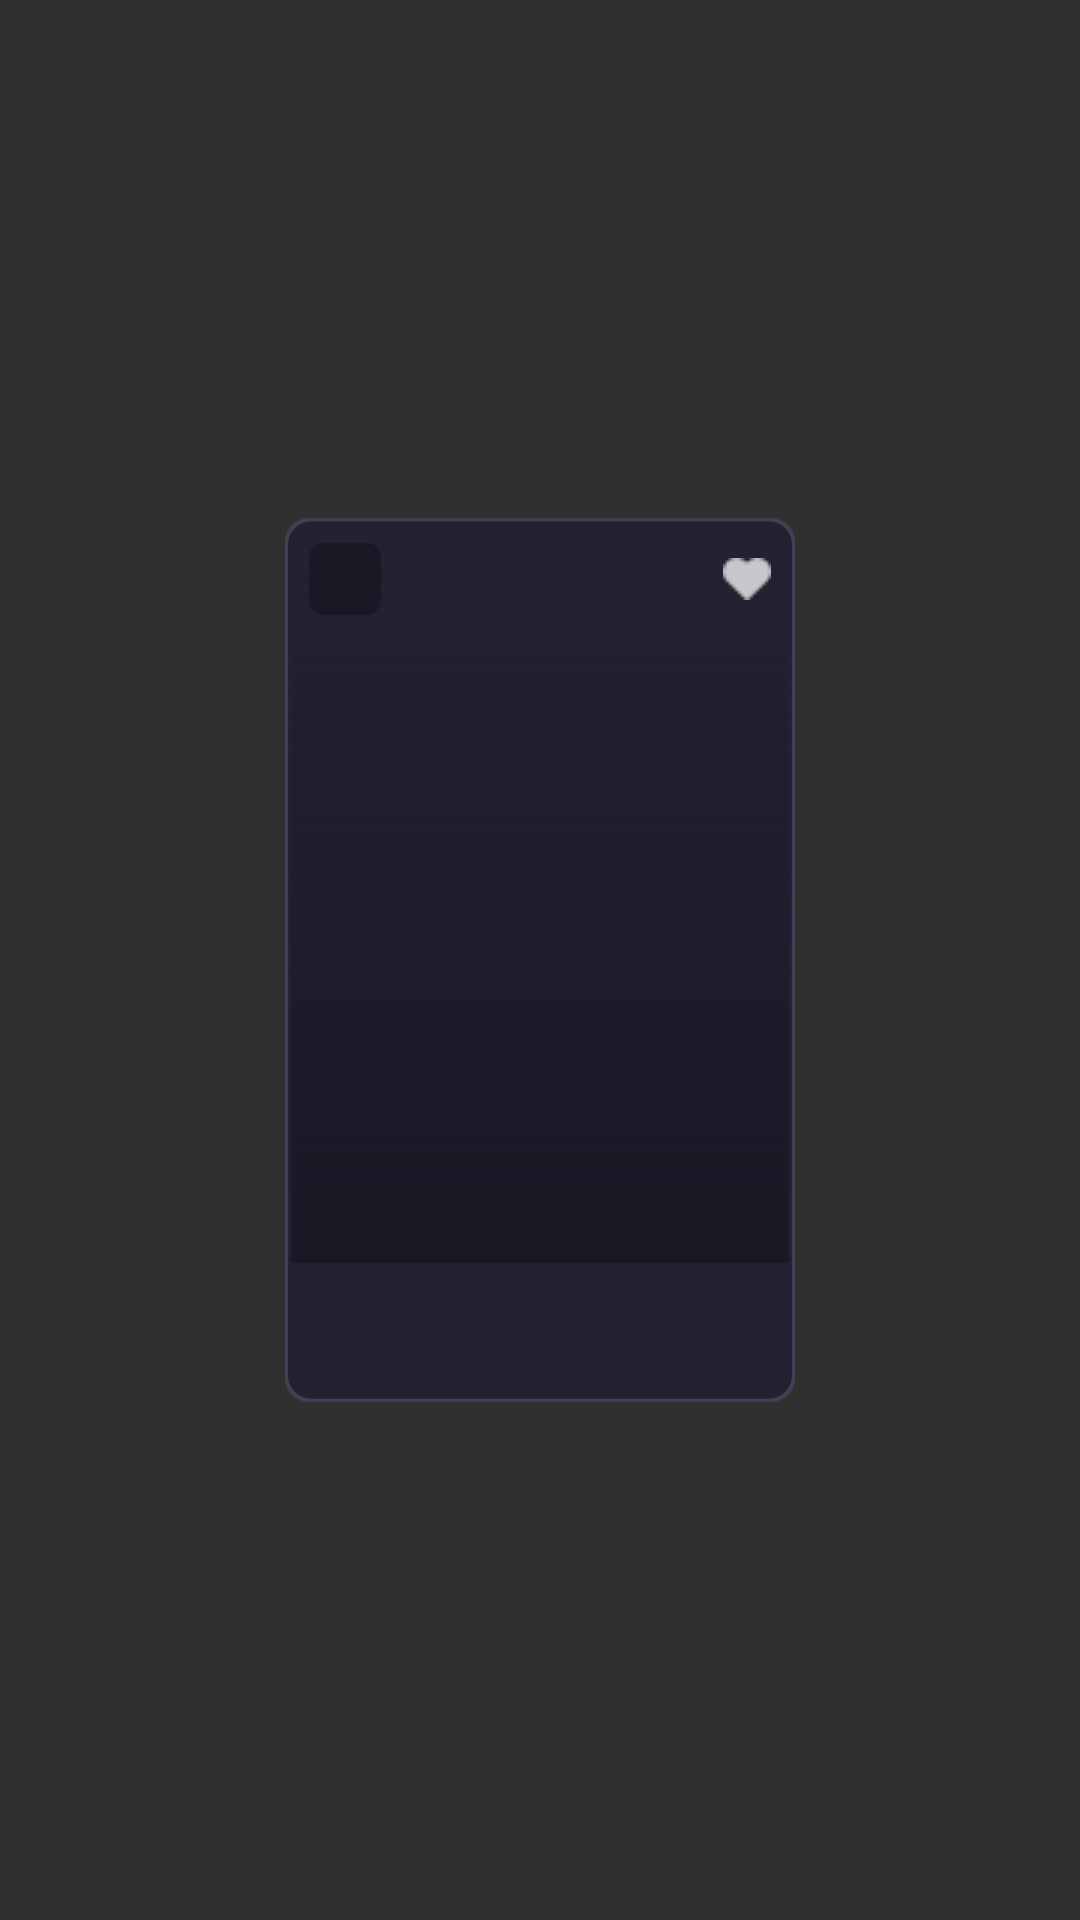

Icons on this 1080x1920 Android screen, each with its box as (x1, y1, x2, y2):
like: (723, 558, 771, 600)
